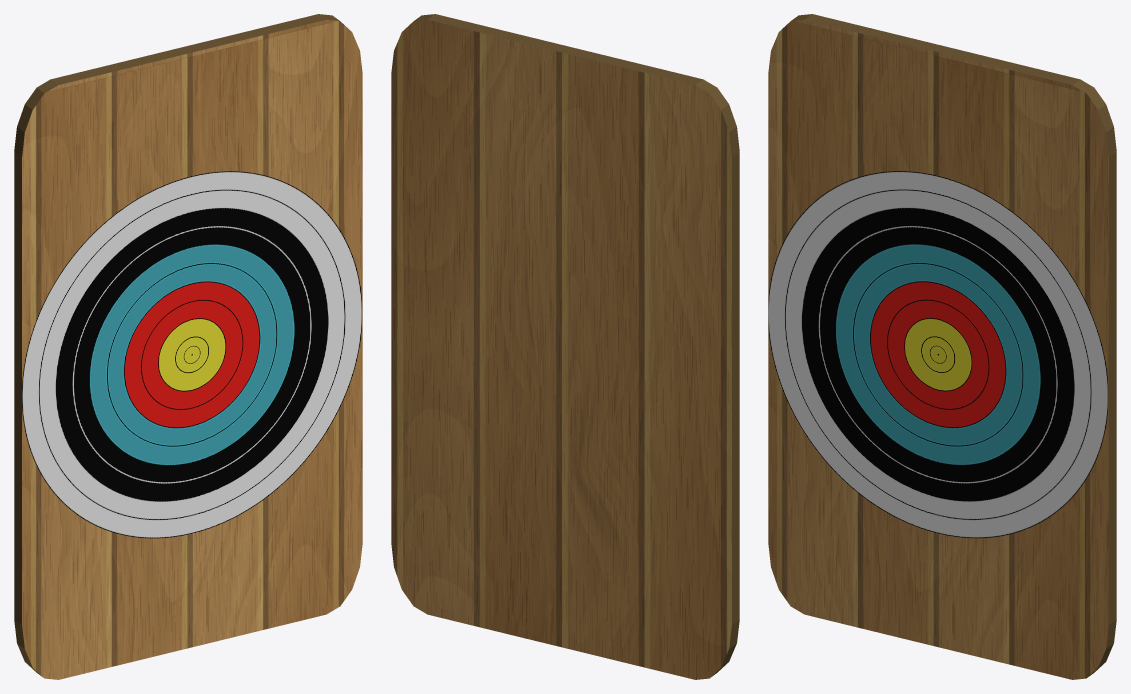
Rendered from Hedef_Tahtas.fbx.
3 views of the same model, side by side, from view 1: azimuth 30°, elevation 25°; view 2: azimuth 150°, elevation 25°; view 3: azimuth 330°, elevation 25° (orthographic).
Visible parts, largest first — view 1: Cube.003, Cube, Cube.004, Cube.002, Cube.001; view 2: Cube.003, Cube, Cube.004, Cube.001, Cube.002; view 3: Cube.003, Cube, Cube.004, Cube.002, Cube.001.
Part boxes in pixels (box(x1,y1,x2,y2)): Cube.003: box(14, 186, 362, 422); Cube: box(14, 458, 362, 679); Cube.004: box(14, 373, 362, 572); Cube.002: box(14, 111, 362, 302); Cube.001: box(14, 14, 362, 190); Cube.003: box(391, 208, 739, 416); Cube: box(391, 462, 739, 679); Cube.004: box(391, 373, 739, 572); Cube.001: box(391, 14, 739, 197); Cube.002: box(391, 113, 739, 302); Cube.003: box(768, 219, 1116, 456); Cube: box(768, 489, 1116, 679); Cube.004: box(768, 339, 1116, 540); Cube.002: box(768, 95, 1116, 284); Cube.001: box(768, 14, 1116, 194).
Size of the model in its own units: 302 by 504 by 12.15.
3 materials, 2 textured.
